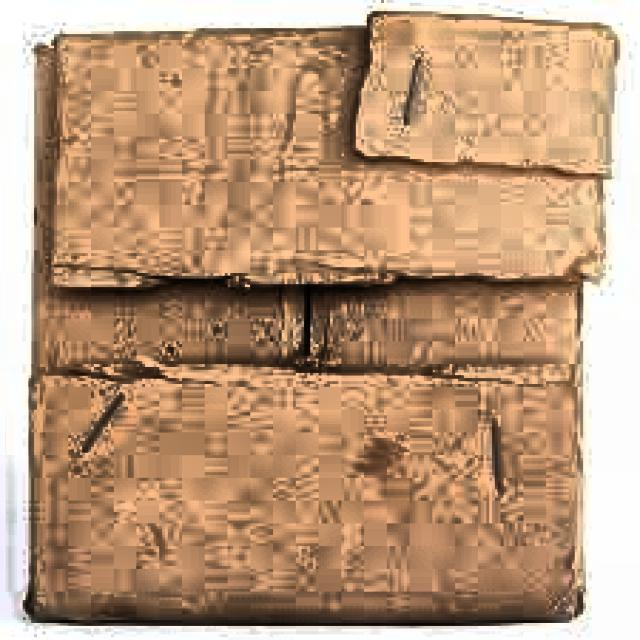cardboard: (22, 11, 614, 626)
